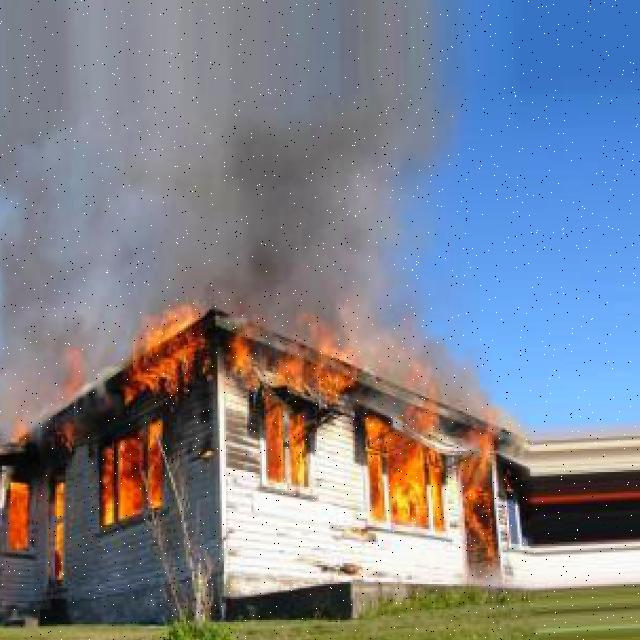fire: (368, 383, 454, 544), (226, 305, 353, 413), (110, 303, 211, 402), (461, 413, 509, 573), (101, 419, 169, 531), (262, 415, 310, 491), (0, 464, 36, 565), (61, 341, 89, 409), (51, 481, 68, 588), (49, 422, 85, 458)
smoke: (0, 194, 472, 396)
